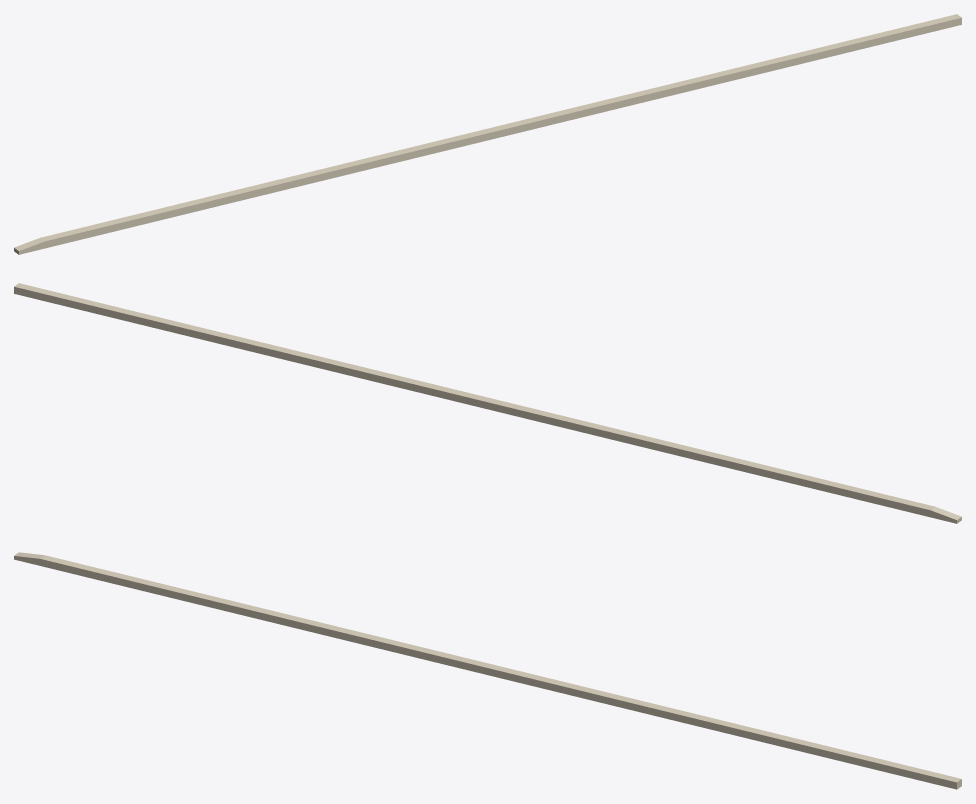
The picture shows the model from 3 angles, top to bottom: view 1: azimuth 30°, elevation 25°; view 2: azimuth 150°, elevation 25°; view 3: azimuth 330°, elevation 25°; orthographic projection.
Visible parts, largest first — view 1: A-ROOF-INFILL-01; view 2: A-ROOF-INFILL-01; view 3: A-ROOF-INFILL-01.
Boxes of the visible parts, x1,y1,x2,y2 form: A-ROOF-INFILL-01: (14,14,961,254); A-ROOF-INFILL-01: (14,283,961,523); A-ROOF-INFILL-01: (14,552,961,789).
Bounding box in the file's own units: 17.76 × 0.1282 × 0.16.
